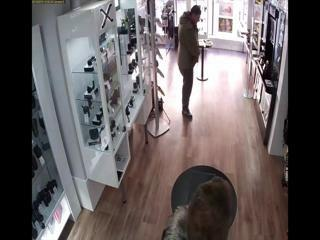Normal: (56, 0, 133, 200), (177, 5, 202, 119)
